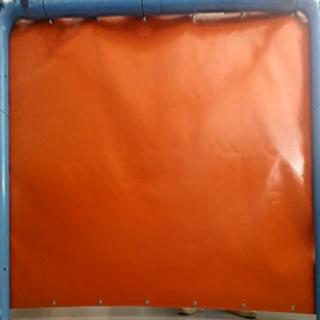Hit-hRxx: (274, 147, 288, 159)
